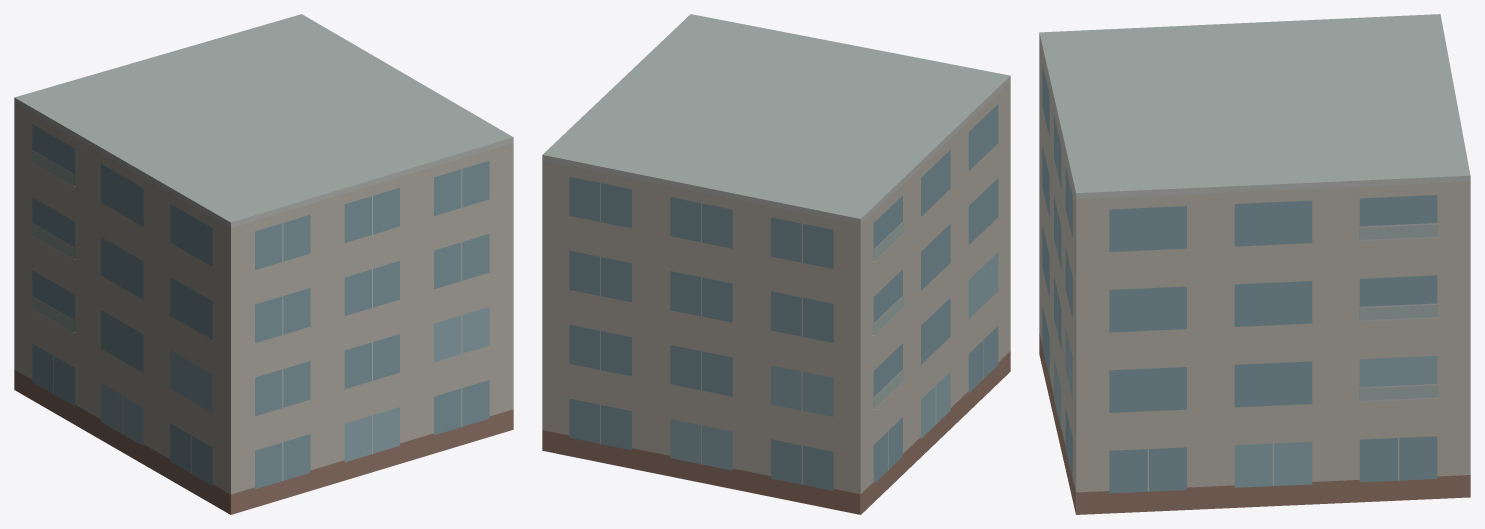
The model's file is survey-upis-32743539.glb.
The picture shows the model from 3 angles, left to right: view 1: azimuth 30°, elevation 25°; view 2: azimuth 150°, elevation 25°; view 3: azimuth 270°, elevation 25°; orthographic projection. The views are drawn at different scales.
Parts seen in each view (by area): view 1: survey-upis-32743539.tmp; view 2: survey-upis-32743539.tmp; view 3: survey-upis-32743539.tmp.
Part boxes in pixels (left/top/right/bottom): survey-upis-32743539.tmp: left=14, top=14, right=513, bottom=514; survey-upis-32743539.tmp: left=542, top=14, right=1010, bottom=514; survey-upis-32743539.tmp: left=1039, top=14, right=1470, bottom=514.
Size of the model in its own units: 15.66 by 13.1 by 15.92.
